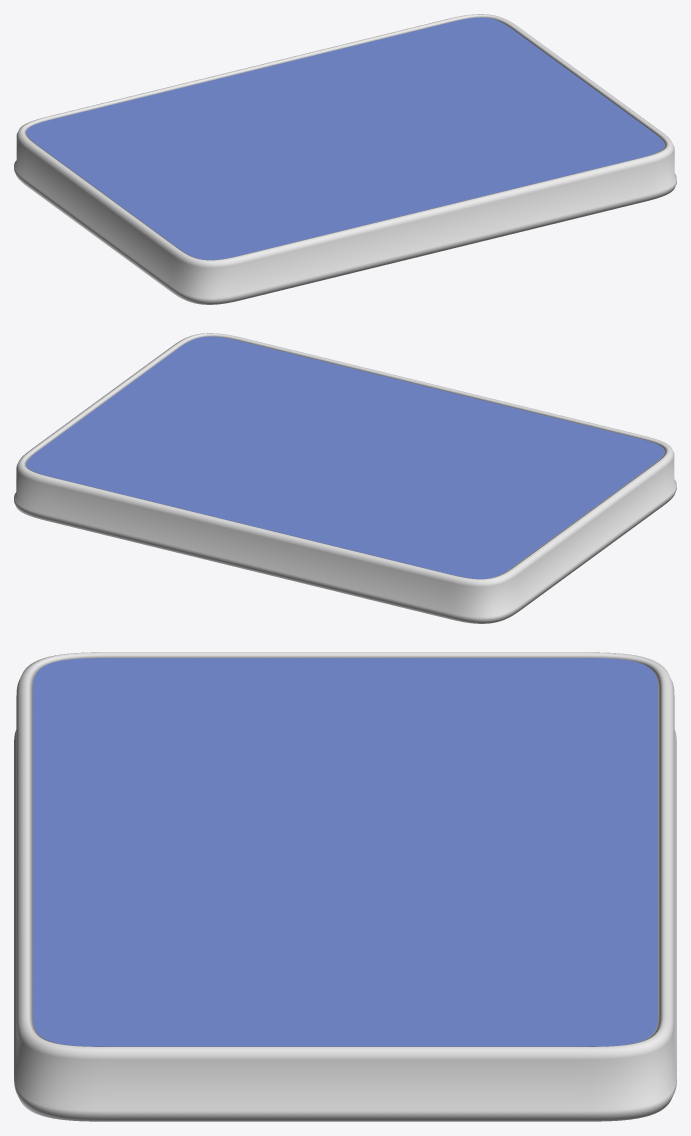
File: RoundFieldV2.fbx
3 views of the same model, one above another, from view 1: azimuth 30°, elevation 25°; view 2: azimuth 150°, elevation 25°; view 3: azimuth 270°, elevation 25° (orthographic). The views are drawn at different scales.
Visible parts, largest first — view 1: NurbsCircle; view 2: NurbsCircle; view 3: NurbsCircle.
Boxes of the visible parts, x1,y1,x2,y2 form: NurbsCircle: [14, 14, 676, 304]; NurbsCircle: [14, 333, 676, 623]; NurbsCircle: [14, 652, 676, 1121].
Bounding box in the file's own units: 298 × 24.96 × 206.
